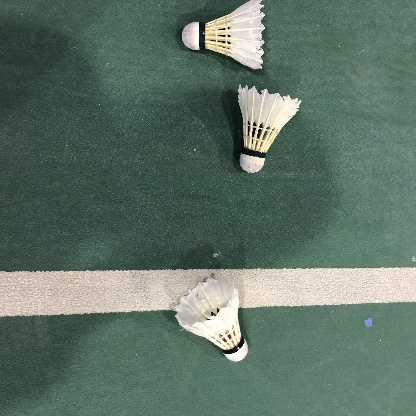ball_single: (175, 277, 248, 362), (182, 0, 265, 69), (238, 84, 302, 173)
